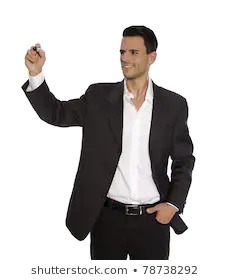F_M_suit jacket: (21, 70, 197, 243)
F_belt: (101, 191, 161, 214)
